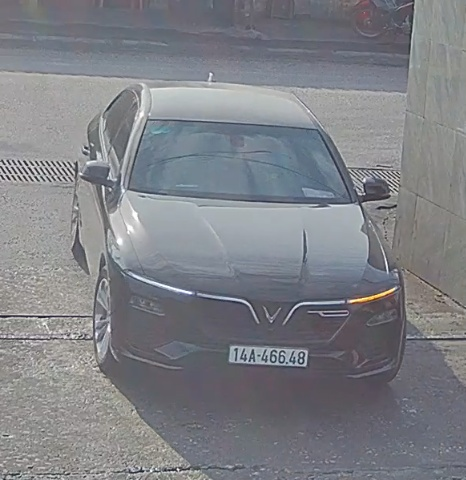vehicle plate: (223, 339, 313, 373)
